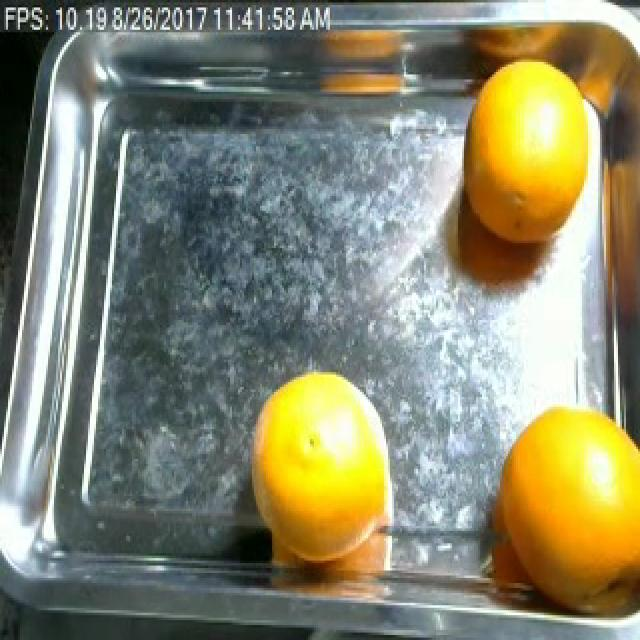Fruit: (236, 357, 396, 548), (482, 387, 640, 575)
